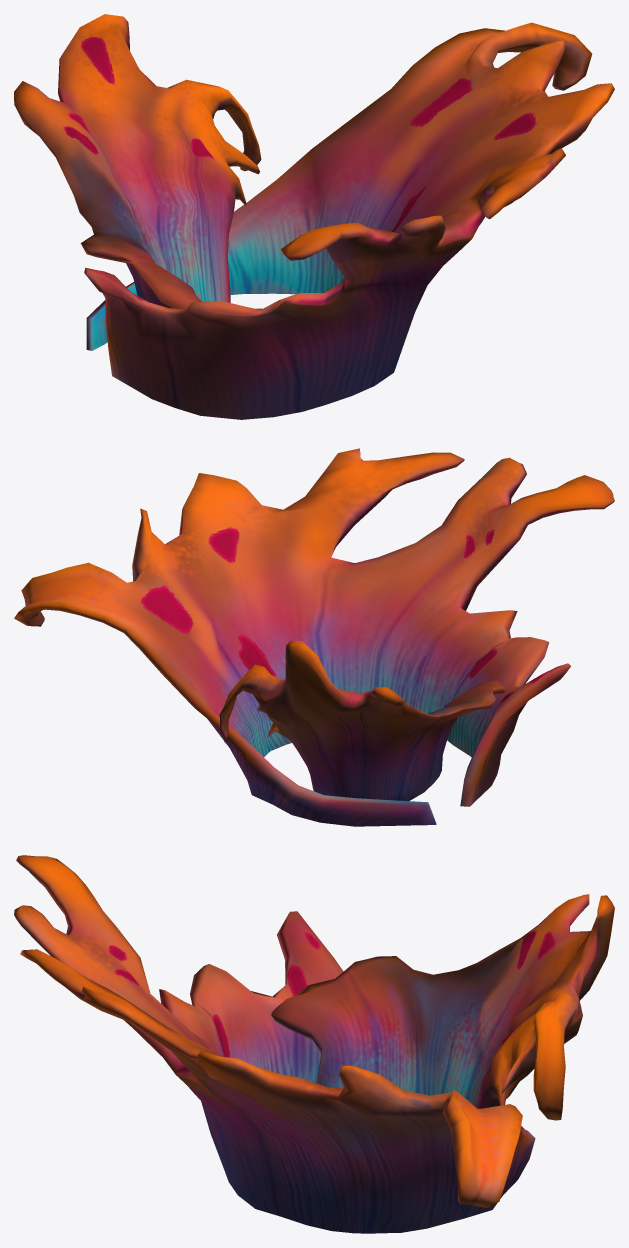
Rendered from VegetationSmall02_02.fbx.
The picture shows the model from 3 angles, top to bottom: view 1: azimuth 30°, elevation 25°; view 2: azimuth 150°, elevation 25°; view 3: azimuth 270°, elevation 25°; orthographic projection. The views are drawn at different scales.
Parts seen in each view (by area): view 1: VegetationSmall02_02_LOD00; view 2: VegetationSmall02_02_LOD00; view 3: VegetationSmall02_02_LOD00.
Boxes of the visible parts, <box> form: VegetationSmall02_02_LOD00: <box>14,14,614,419</box>; VegetationSmall02_02_LOD00: <box>14,448,614,826</box>; VegetationSmall02_02_LOD00: <box>14,855,614,1233</box>.
Size of what is drawn, in the model's own units: 105 by 46.33 by 93.01.
